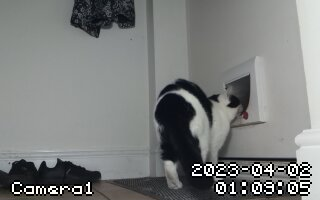bad: (148, 76, 246, 189)
